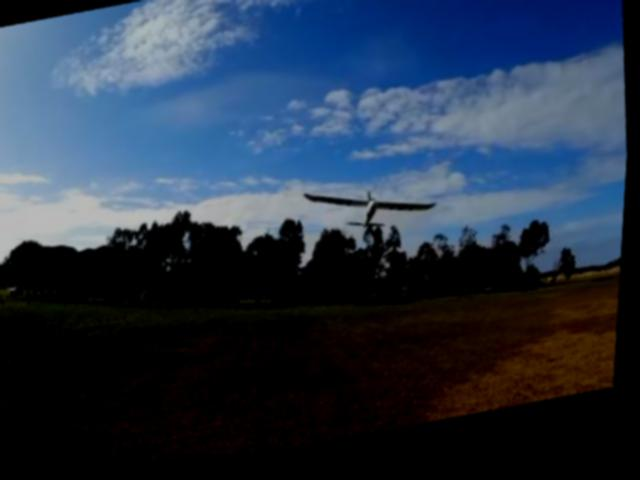uav: (295, 167, 449, 264)
